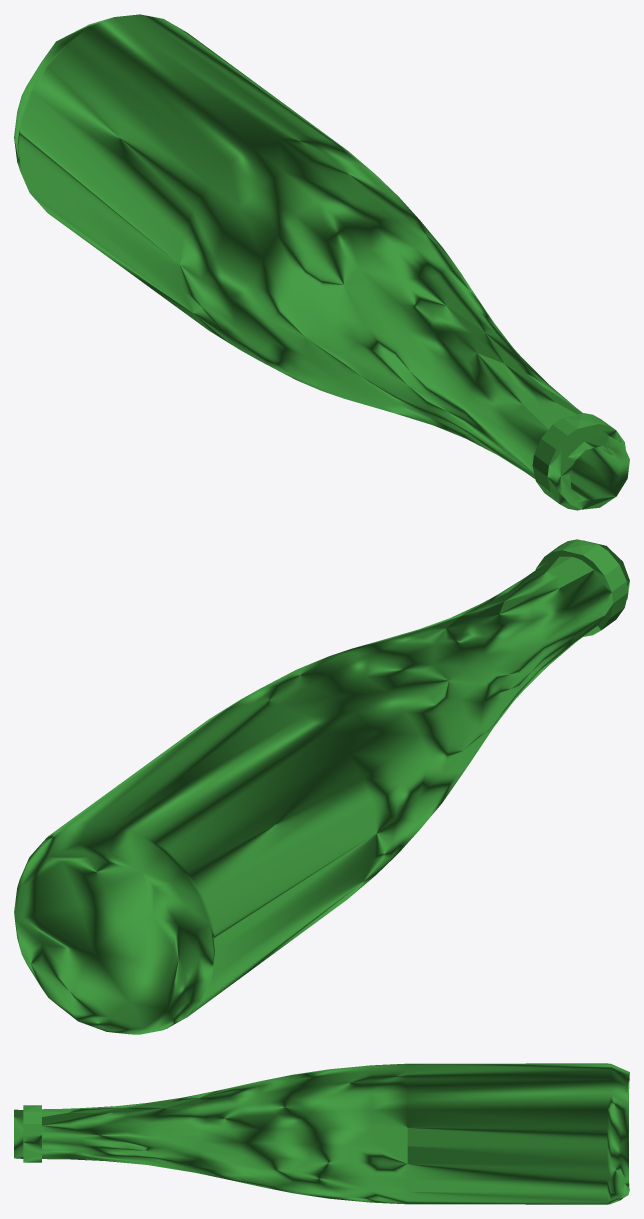
The model's file is model_align.obj.
The picture shows the model from 3 angles, top to bottom: view 1: azimuth 30°, elevation 25°; view 2: azimuth 150°, elevation 25°; view 3: azimuth 270°, elevation 25°; orthographic projection. The views are drawn at different scales.
Size of the model in its own units: 0.0368 by 0.0368 by 0.16.
